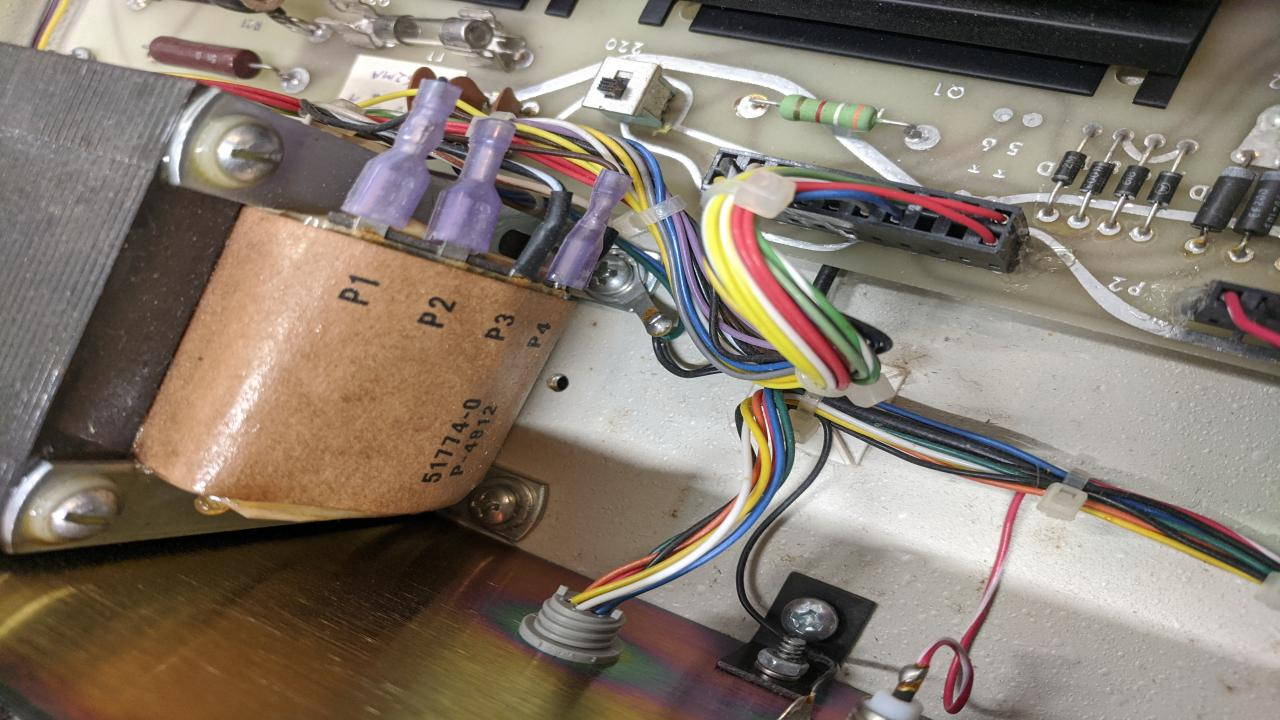CRS: (785, 597, 840, 639), (584, 250, 636, 294), (468, 481, 518, 526)
